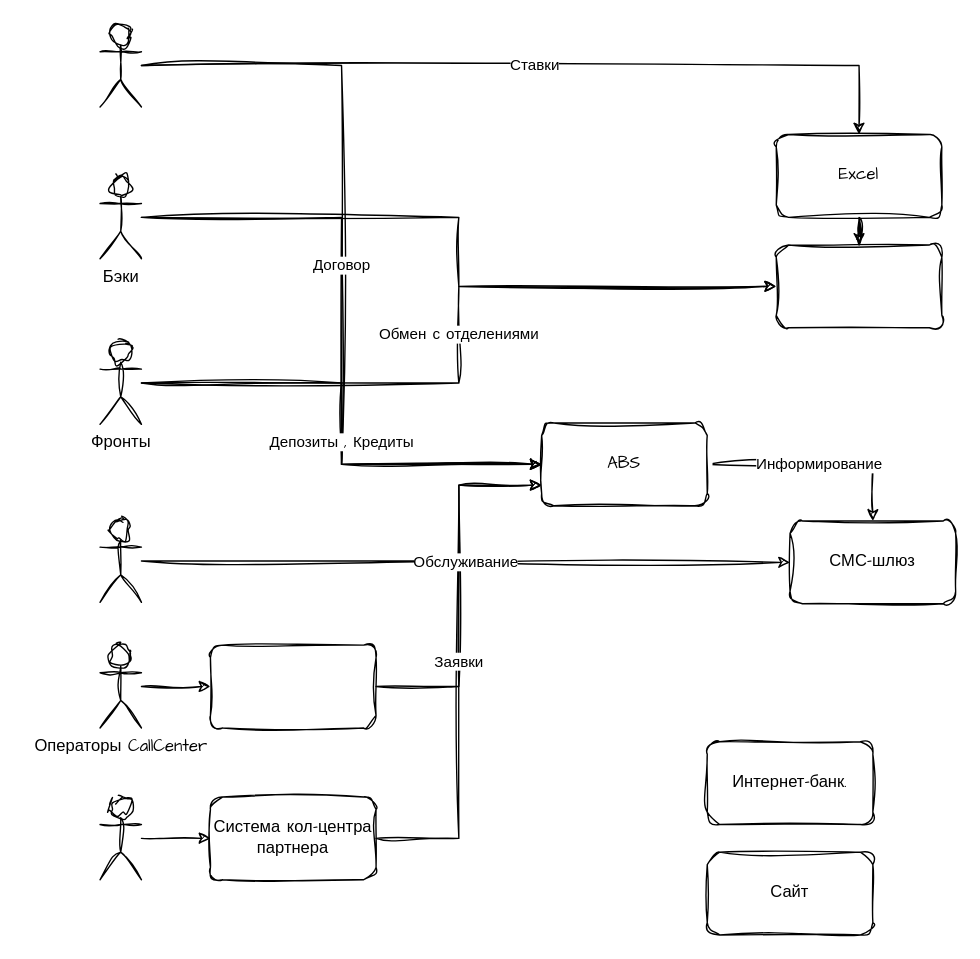
This 980x959 diagram has some shape labels left out. The shapes that lost their labels are listed below. From the top down, each one's box as (x1, y1, x2, y2) in pixels, then its label:
(99, 23, 141, 107): Отделение
(775, 244, 942, 328): e-mail
(99, 518, 141, 602): ИТ
(209, 644, 376, 728): Система кол-центра
(99, 796, 141, 880): Операторы партнерского CallCenter
